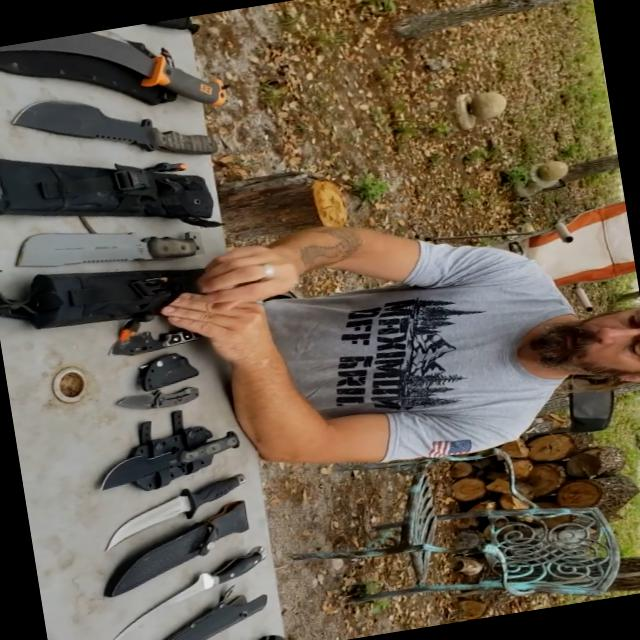knife: (0, 9, 250, 144), (6, 56, 230, 196), (92, 537, 288, 639), (7, 198, 215, 288), (92, 460, 262, 553), (88, 423, 252, 504), (100, 316, 233, 368), (104, 375, 208, 422)
